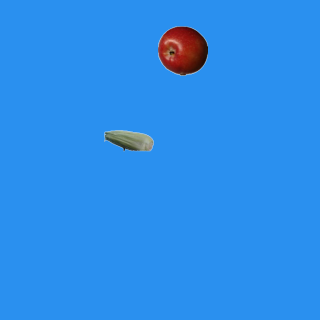Apple Braeburn: (157, 25, 207, 75)
Corn Husk: (103, 115, 153, 165)
